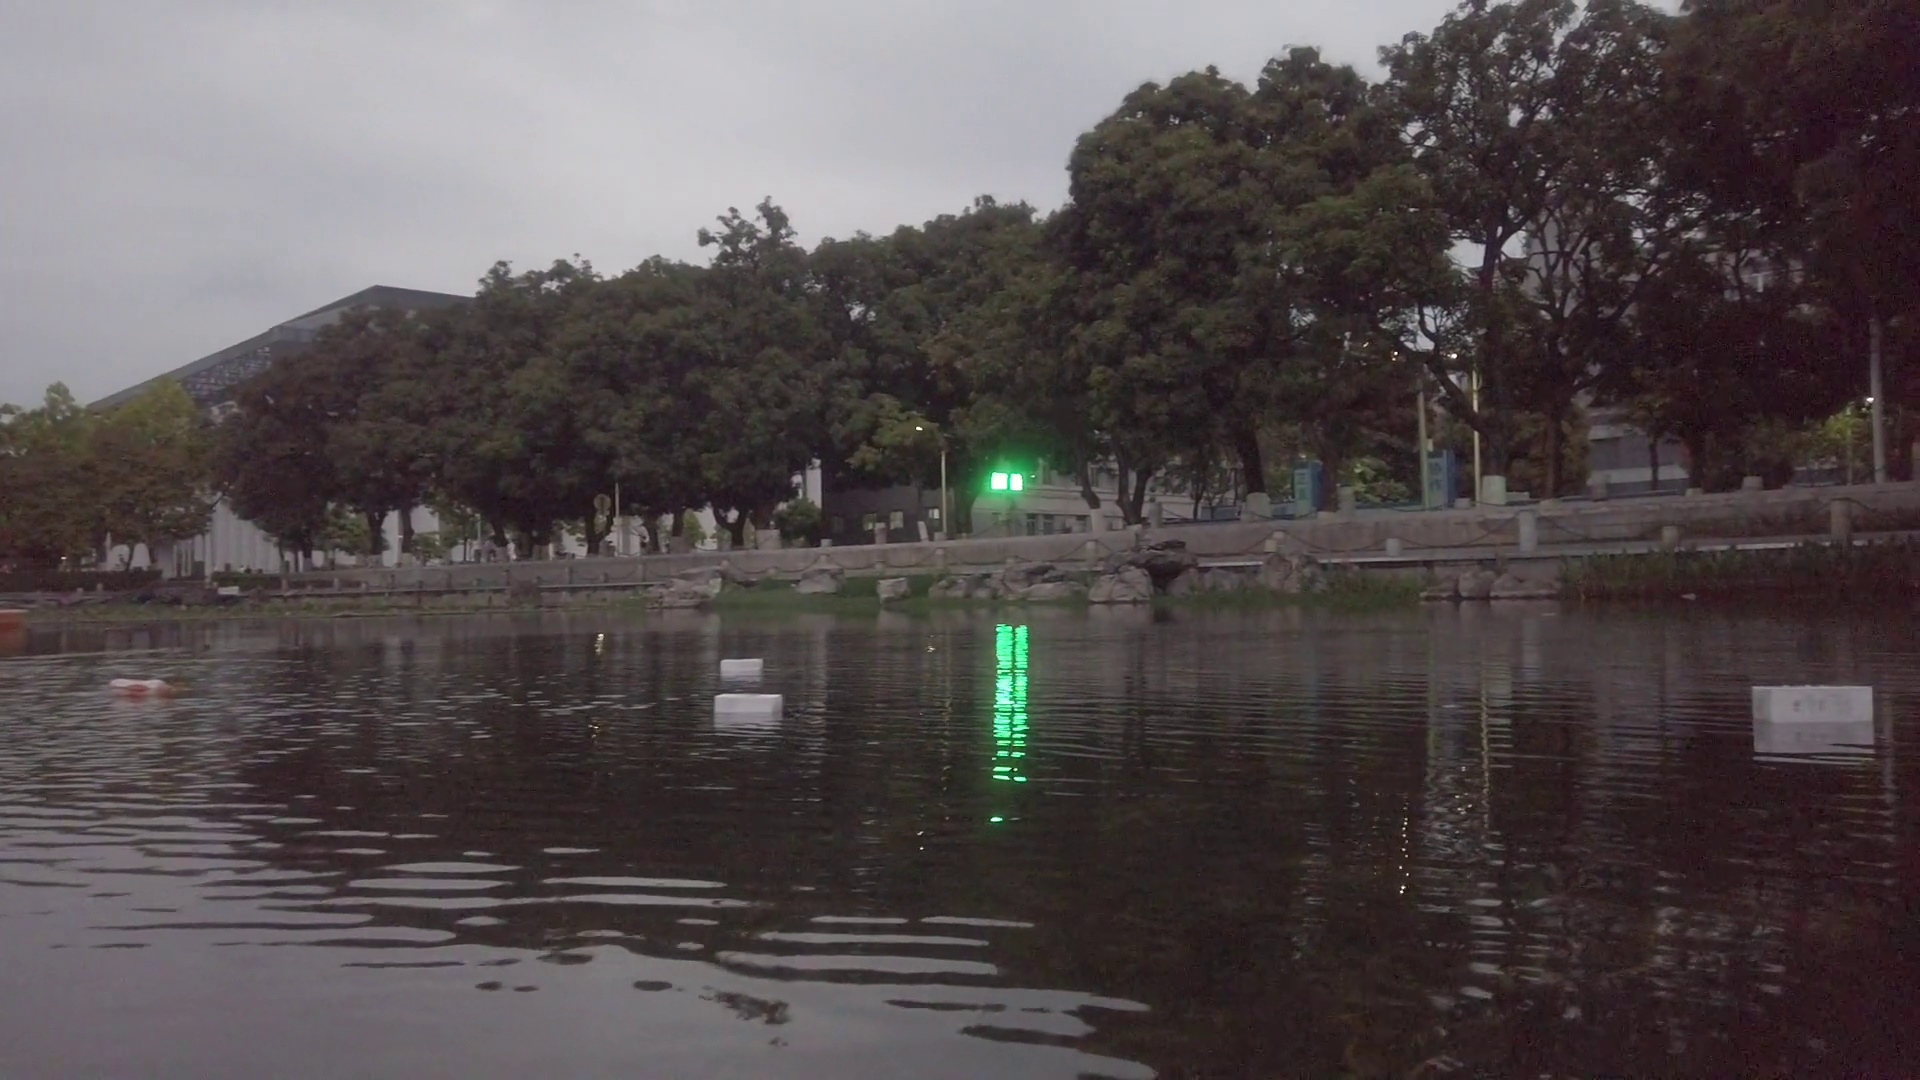bottle: (107, 679, 179, 700)
carton: (1750, 680, 1874, 723), (713, 690, 782, 716), (720, 655, 765, 673)
